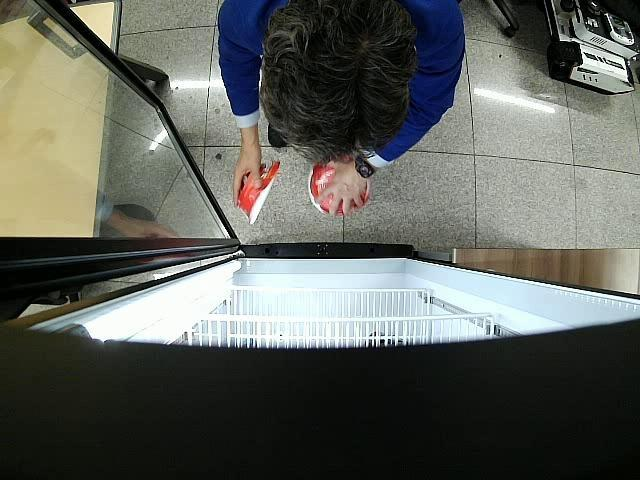10_wangTtukkeong: (309, 160, 370, 217), (238, 161, 280, 226)
